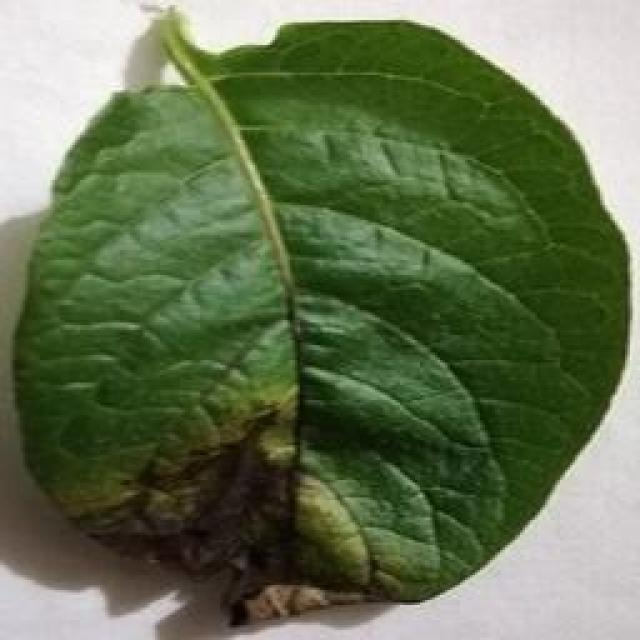Potato_Late_Blight: (16, 13, 620, 628)
